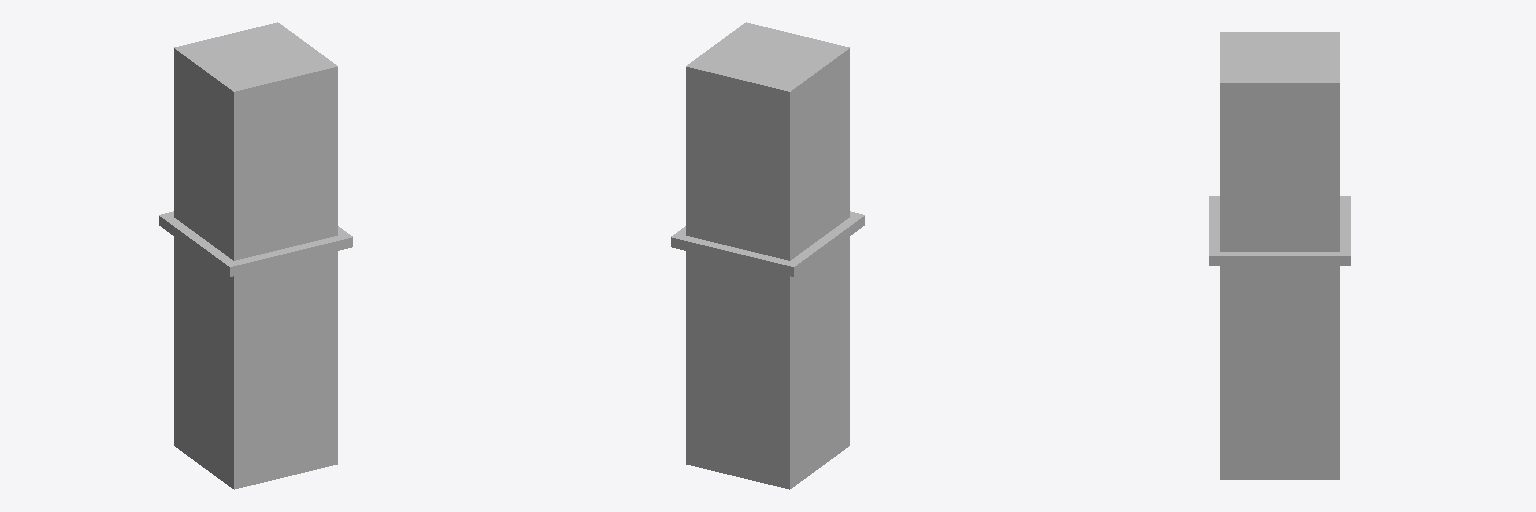
The model's file is Bamboo.obj.
The picture shows the model from 3 angles: view 1: azimuth 30°, elevation 25°; view 2: azimuth 150°, elevation 25°; view 3: azimuth 270°, elevation 25°; orthographic projection.
Parts seen in each view (by area): view 1: object 1; view 2: object 1; view 3: object 1.
Part boxes in pixels (bbox=[...]): object 1: bbox=[159, 22, 352, 489]; object 1: bbox=[671, 22, 864, 489]; object 1: bbox=[1209, 32, 1350, 479].
Bounding box in the file's own units: 1.3 × 4 × 1.3.